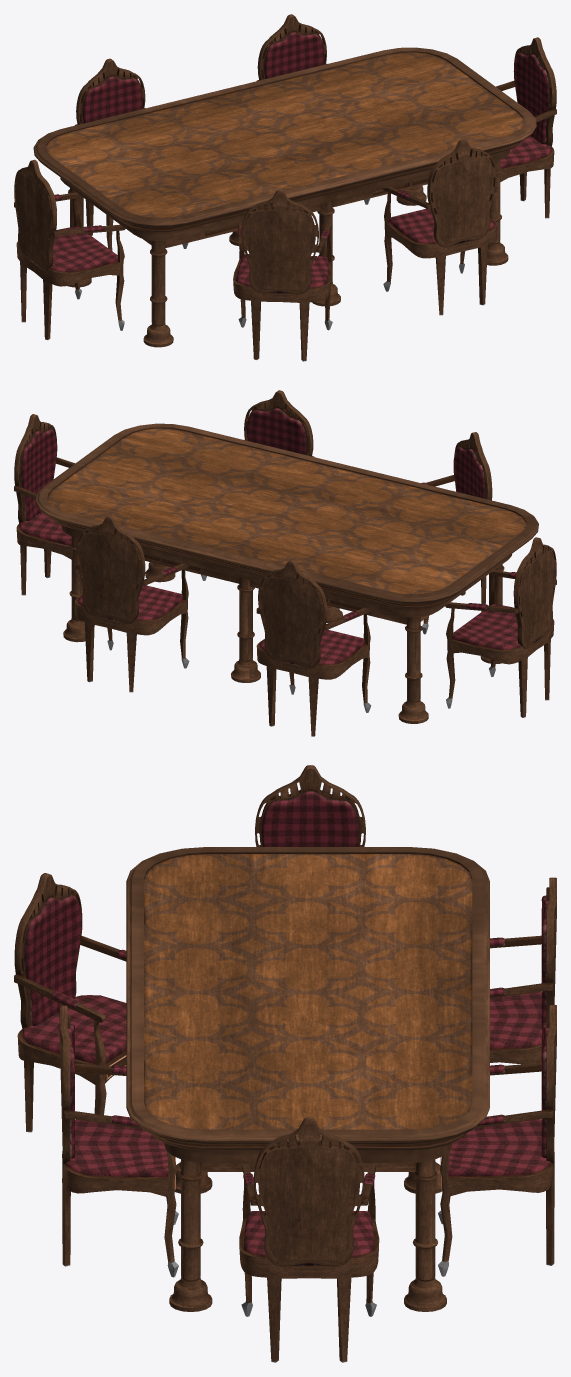
File: wooden_tablechair__low-poly__game-ready.glb
3 renders of one model, top to bottom at view 1: azimuth 30°, elevation 25°; view 2: azimuth 150°, elevation 25°; view 3: azimuth 270°, elevation 25°, orthographic. The views are drawn at different scales.
Parts seen in each view (by area): view 1: Table, Chair2.001, Chair1.001, Chair1.003, Chair1.002, Chair2, Chair1; view 2: Table, Chair1, Chair2, Chair1.003, Chair1.002, Chair1.001, Chair2.001; view 3: Table, Chair1.002, Chair2.001, Chair1, Chair1.001, Chair1.003, Chair2.
Boxes of the visible parts, <box> form: Table: <box>33,47,536,347</box>; Chair2.001: <box>233,189,332,361</box>; Chair1.001: <box>383,139,497,315</box>; Chair1.003: <box>14,159,125,339</box>; Chair1.002: <box>496,37,556,218</box>; Chair2: <box>75,58,188,250</box>; Chair1: <box>256,14,369,204</box>; Table: <box>35,423,538,723</box>; Chair1: <box>74,515,189,692</box>; Chair2: <box>256,560,371,736</box>; Chair1.003: <box>445,537,556,717</box>; Chair1.002: <box>14,414,74,595</box>; Chair1.001: <box>201,390,314,580</box>; Chair2.001: <box>421,432,492,634</box>; Table: <box>126,847,489,1311</box>; Chair1.002: <box>239,1117,379,1362</box>; Chair2.001: <box>14,873,126,1132</box>; Chair1: <box>438,1005,556,1276</box>; Chair1.001: <box>59,1005,178,1277</box>; Chair1.003: <box>255,765,365,846</box>; Chair2: <box>490,877,556,1064</box>.
Size of the model in its own units: 2.56 by 0.8205 by 1.65.
Materials: 2 (2 with a texture image).
